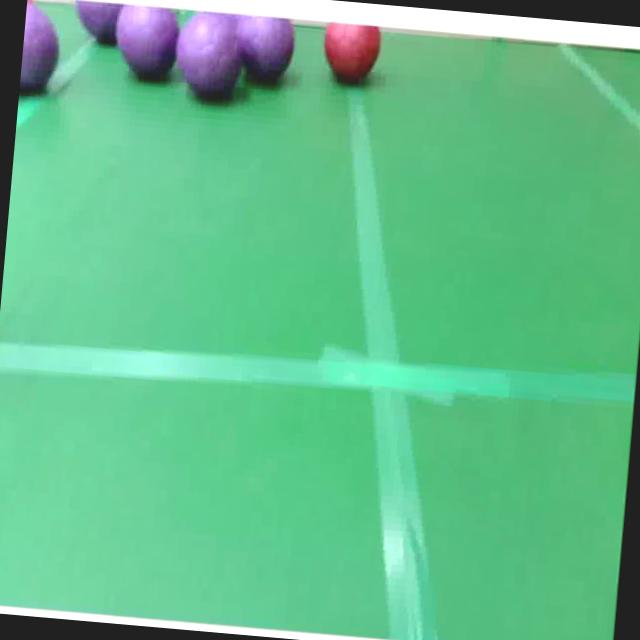purple_ball: (174, 15, 244, 99), (110, 5, 180, 87), (232, 15, 295, 88), (19, 8, 65, 95), (319, 24, 382, 86), (71, 0, 128, 46)
